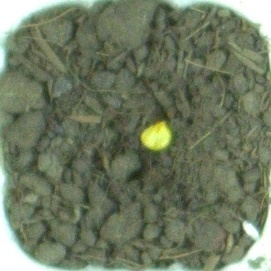chilli seed: (135, 115, 176, 154)
